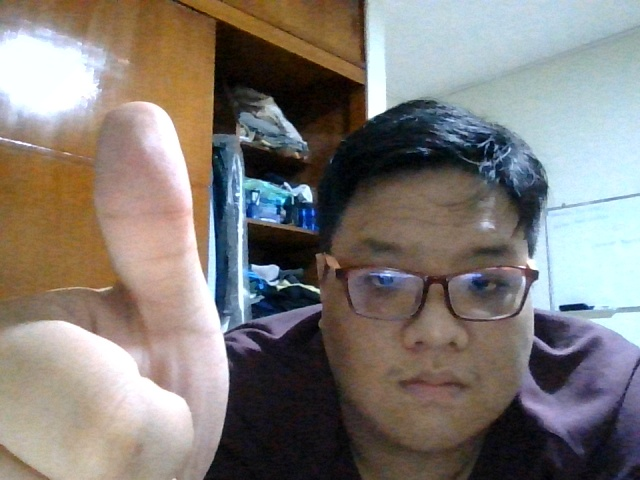si: (1, 98, 229, 480)
